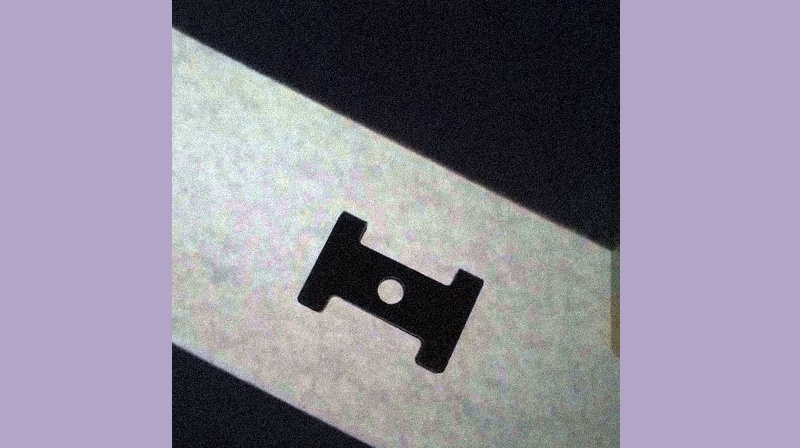O002: (293, 205, 484, 378)
